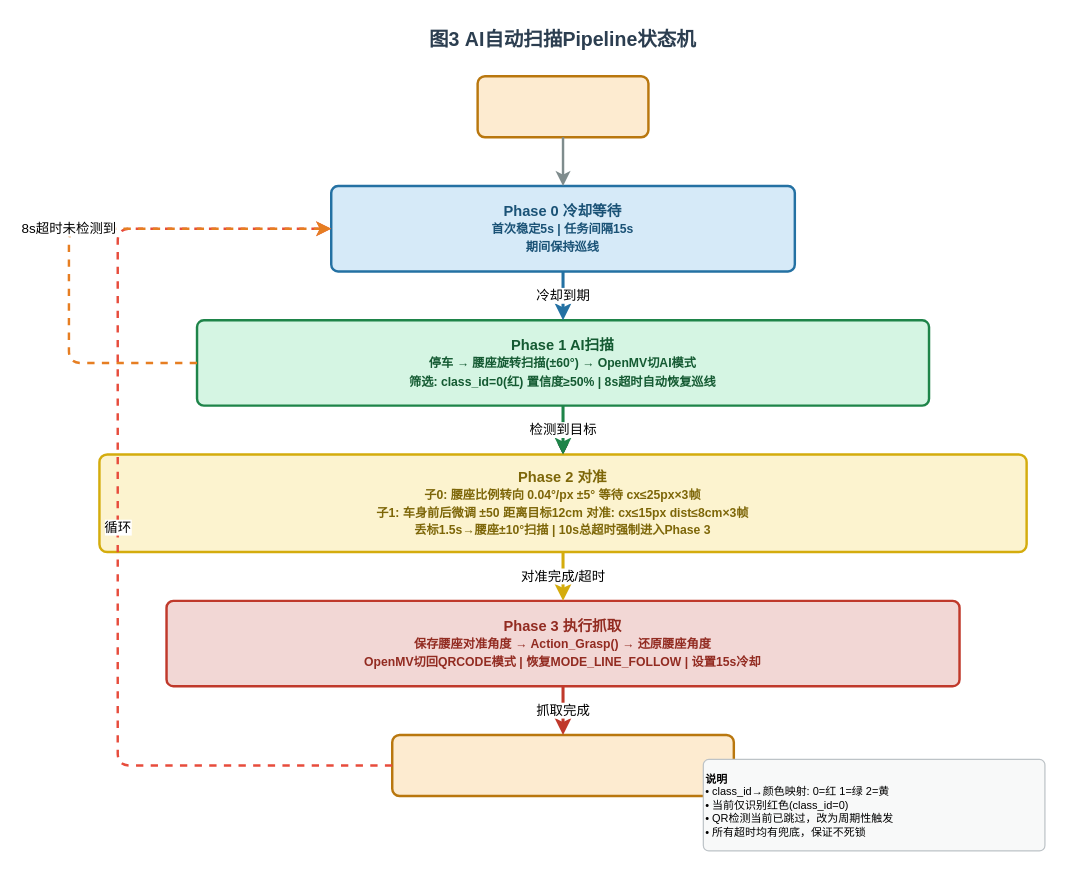
This 1066x872 diagram has some shape labels left out. The centre of each missing label's shape, as x and y in pixels:
"启动 上电→巡线出发" goes at (x=562, y=106).
"恢复巡线 → 回到 Phase 0 循环执行，逐个收集货物" goes at (x=562, y=765).
